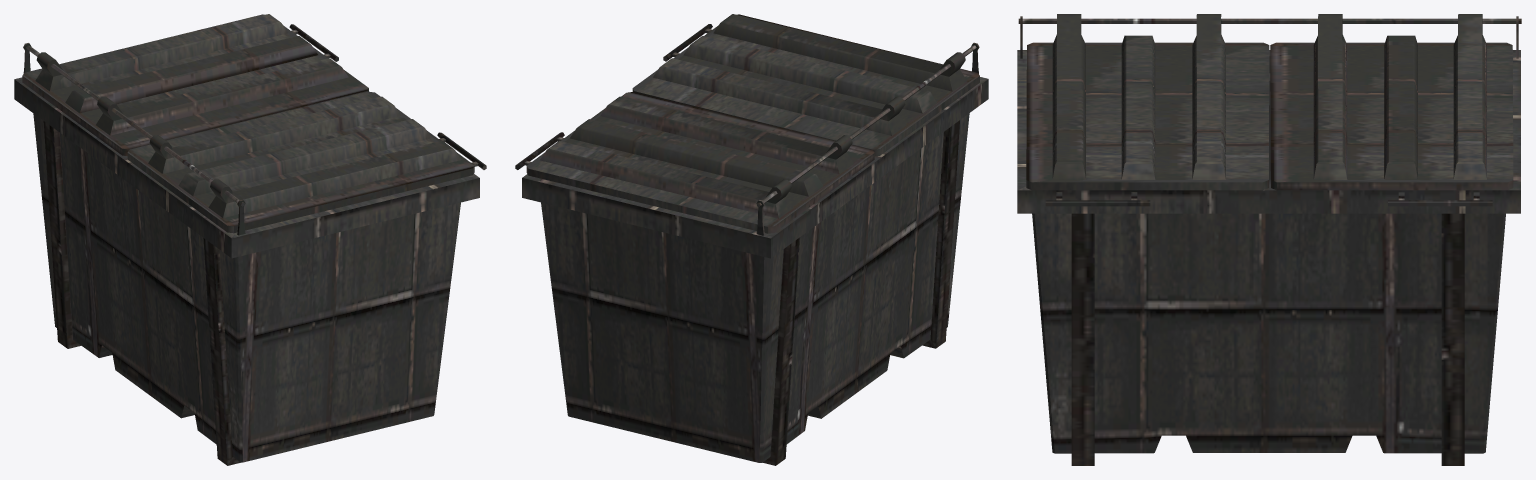
The model's file is Container.fbx.
The picture shows the model from 3 angles, left to right: view 1: azimuth 30°, elevation 25°; view 2: azimuth 150°, elevation 25°; view 3: azimuth 270°, elevation 25°; orthographic projection. The views are drawn at different scales.
Parts seen in each view (by area): view 1: Container.001; view 2: Container.001; view 3: Container.001.
Part boxes in pixels (left/top/right/bottom): Container.001: left=14, top=14, right=486, bottom=465; Container.001: left=515, top=14, right=988, bottom=465; Container.001: left=1017, top=14, right=1521, bottom=465.
Size of the model in its own units: 1.06 by 1.09 by 1.5.
Materials: 1 (1 with a texture image).
